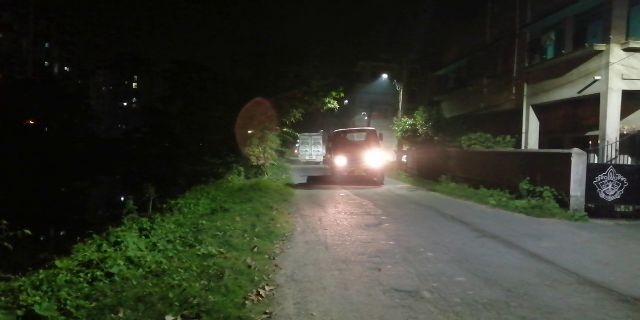Truck: (324, 126, 390, 184)
